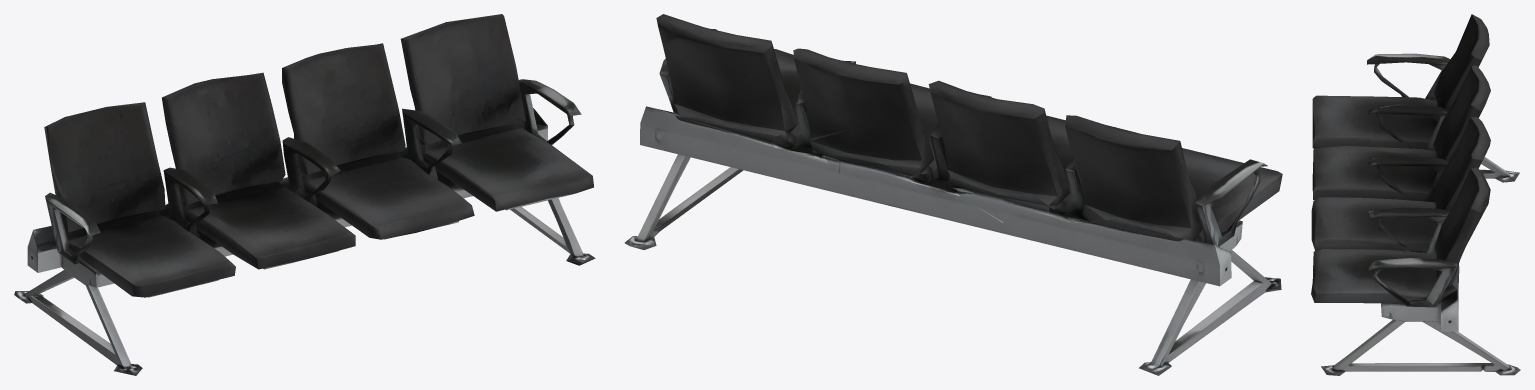
Rendered from gate_seats.glb.
The picture shows the model from 3 angles, left to right: view 1: azimuth 30°, elevation 25°; view 2: azimuth 150°, elevation 25°; view 3: azimuth 270°, elevation 25°; orthographic projection. The views are drawn at different scales.
Visible parts, largest first — view 1: model; view 2: model; view 3: model.
Part boxes in pixels (<box>): model: <box>14,14,595,375</box>; model: <box>624,14,1282,375</box>; model: <box>1311,14,1520,375</box>.
Size of the model in its own units: 1.9 by 0.6661 by 0.7693.
1 material, 1 textured.
